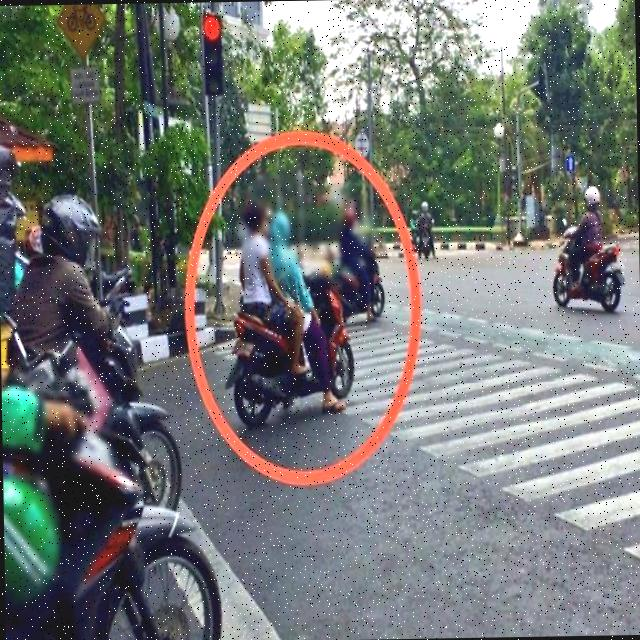Czerwone swiatlo: (200, 12, 225, 96)
